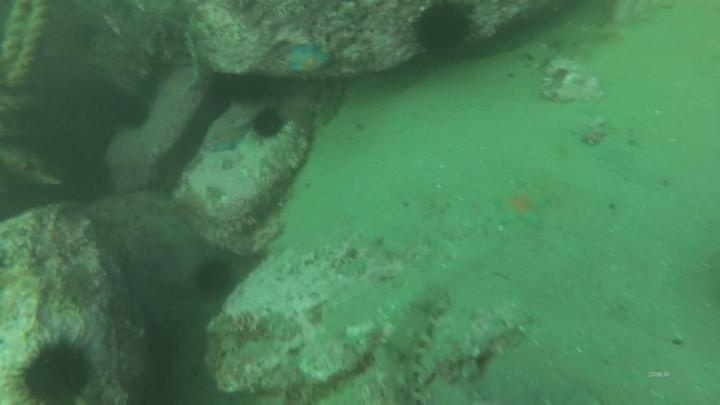echinus: (13, 332, 98, 404), (408, 1, 478, 60), (192, 256, 236, 298), (248, 105, 287, 141)
holothurian: (371, 286, 451, 399), (310, 83, 350, 132)
starfish: (492, 182, 552, 232), (282, 39, 333, 78), (206, 118, 251, 155)
